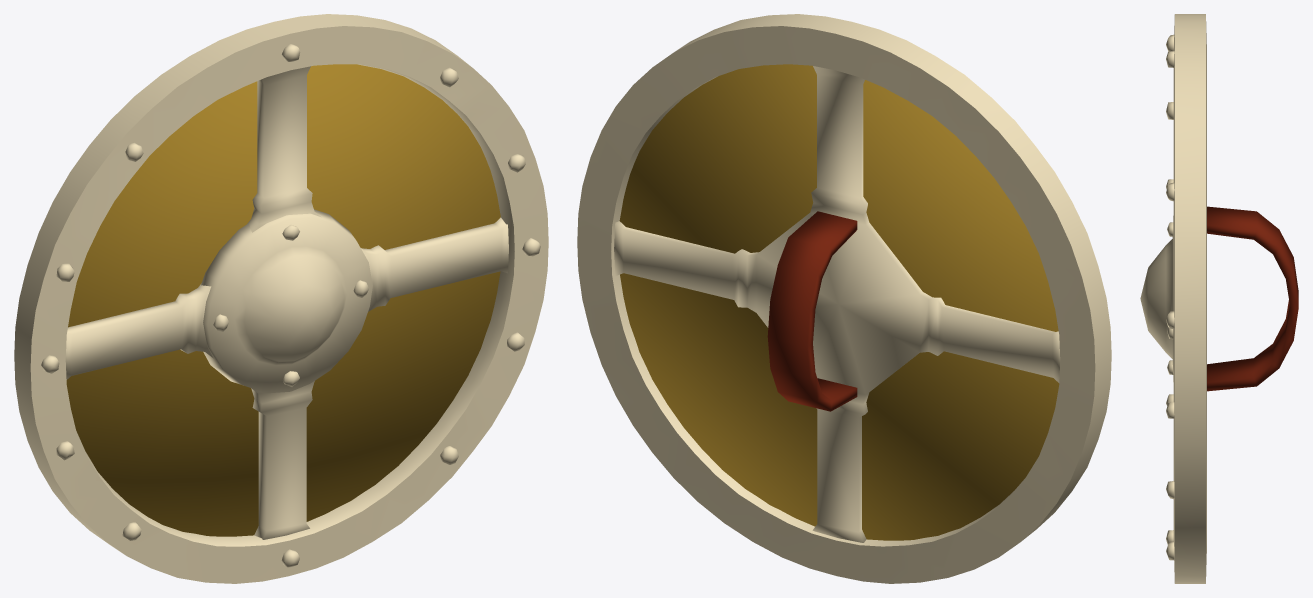
File: Shield.fbx
The picture shows the model from 3 angles, left to right: view 1: azimuth 30°, elevation 25°; view 2: azimuth 150°, elevation 25°; view 3: azimuth 270°, elevation 25°; orthographic projection. The views are drawn at different scales.
Visible parts, largest first — view 1: Shield; view 2: Shield; view 3: Shield.
Part boxes in pixels (x1=…): Shield: x1=14, y1=14, x2=548, y2=583; Shield: x1=577, y1=14, x2=1111, y2=583; Shield: x1=1140, y1=14, x2=1298, y2=583.
Bounding box in the file's own units: 0.7448 × 0.2075 × 0.7448.
